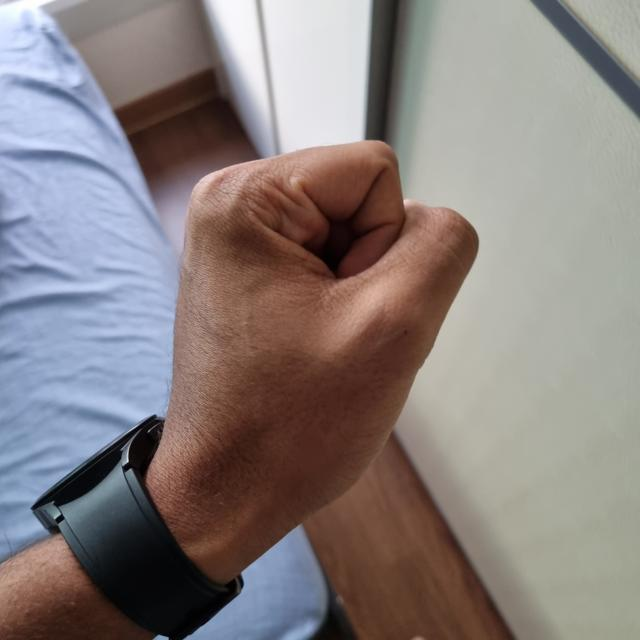Rock: (160, 141, 478, 551)
